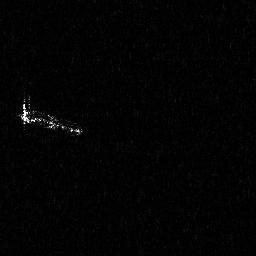ship: (17, 93, 84, 139)
